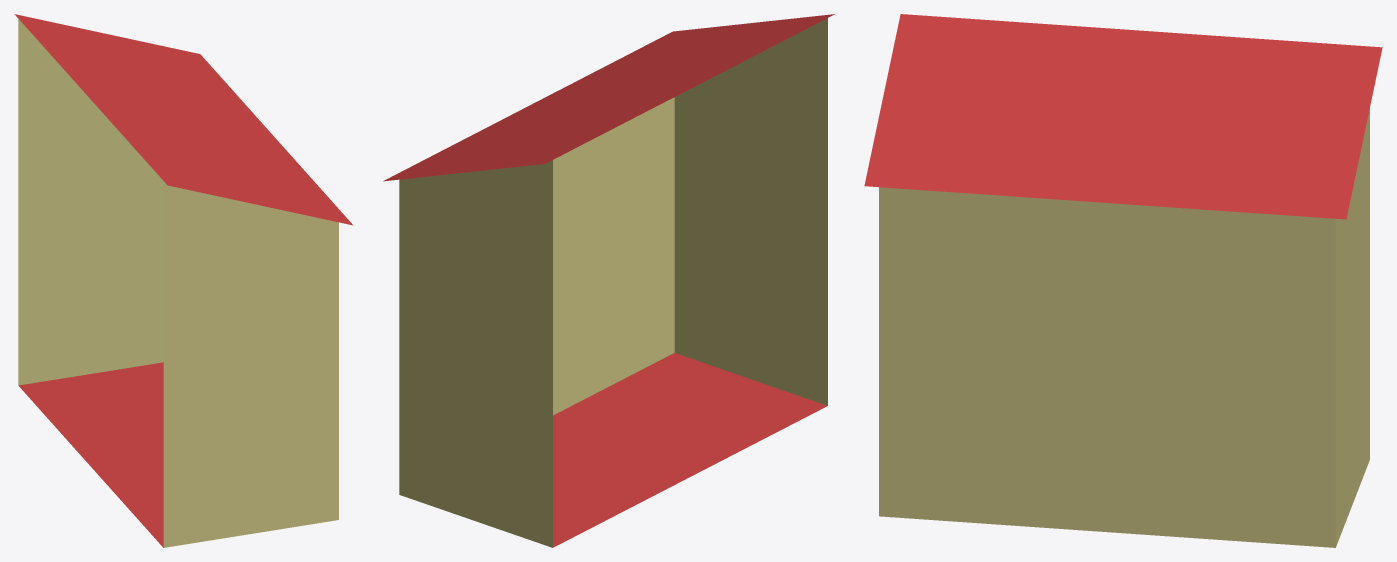
3 renders of one model, left to right at view 1: azimuth 30°, elevation 25°; view 2: azimuth 150°, elevation 25°; view 3: azimuth 270°, elevation 25°, orthographic. The views are drawn at different scales.
Size of the model in its own units: 5.84 by 10.09 by 8.88.
